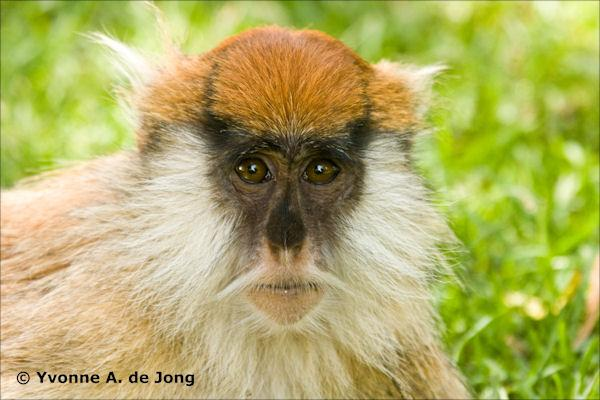monkey: (23, 26, 470, 400)
